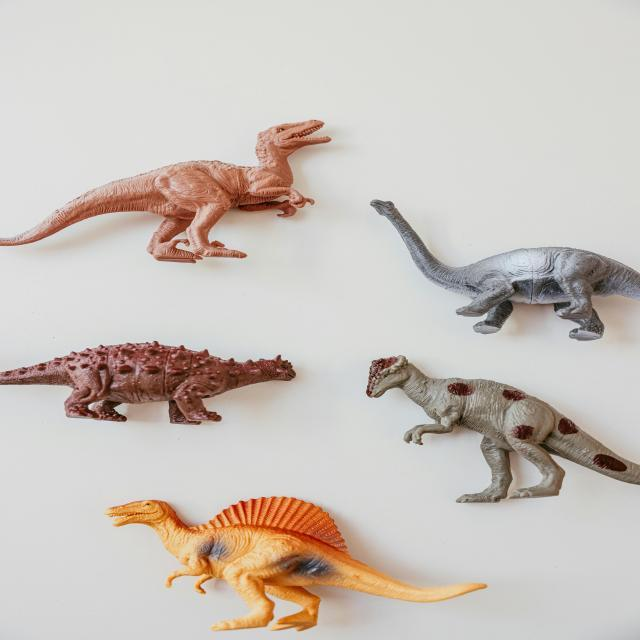hard-toy: (106, 497, 486, 632), (1, 121, 331, 264), (368, 356, 640, 504), (372, 201, 640, 341), (1, 342, 297, 425), (155, 381, 157, 382)
